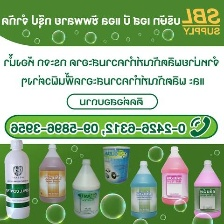insecticide: (3, 136, 31, 221), (71, 155, 102, 220), (192, 156, 222, 223), (37, 141, 67, 205), (160, 144, 189, 207), (129, 157, 158, 219), (100, 144, 132, 185)
